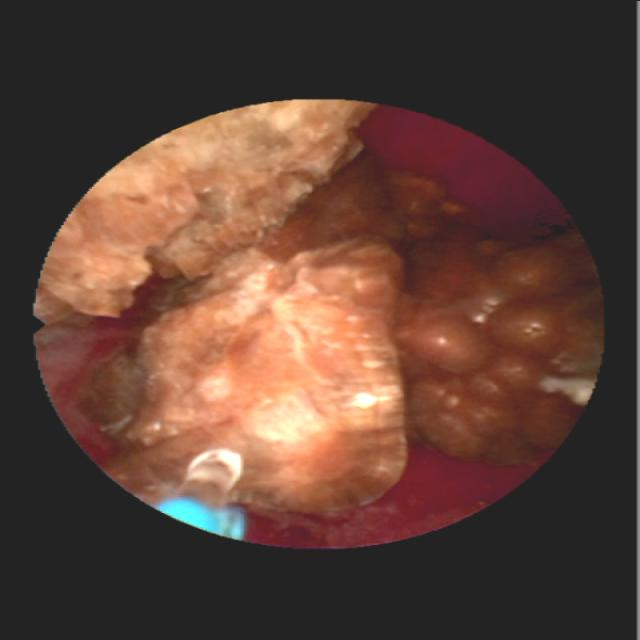fiber: (163, 500, 243, 533)
stone: (41, 105, 588, 514)
